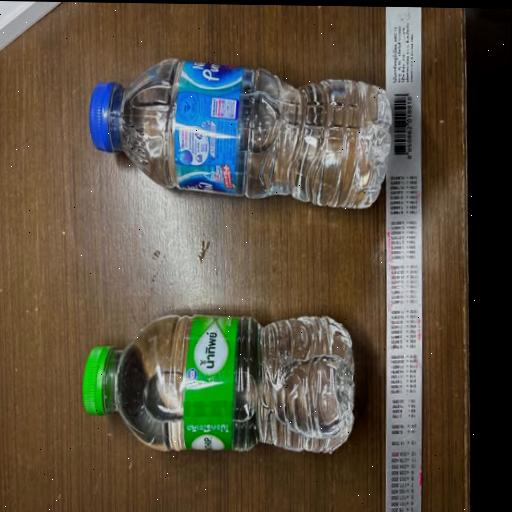bottle: (55, 32, 405, 249), (46, 287, 380, 471)
